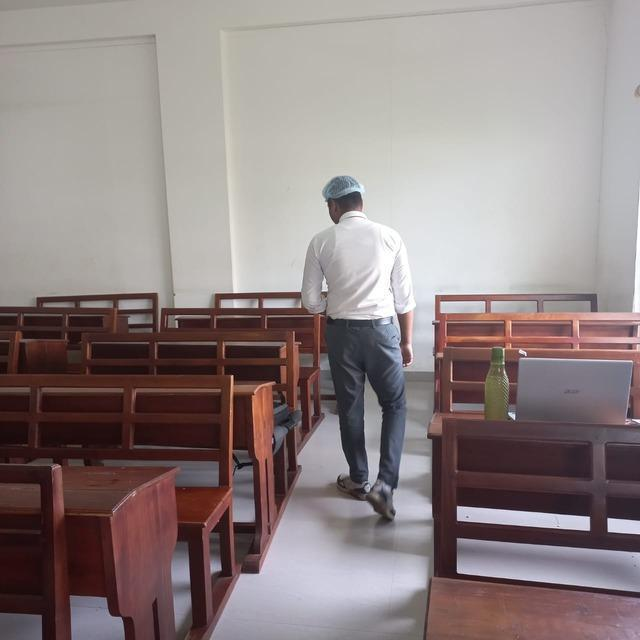bare_hand: (395, 324, 431, 373)
